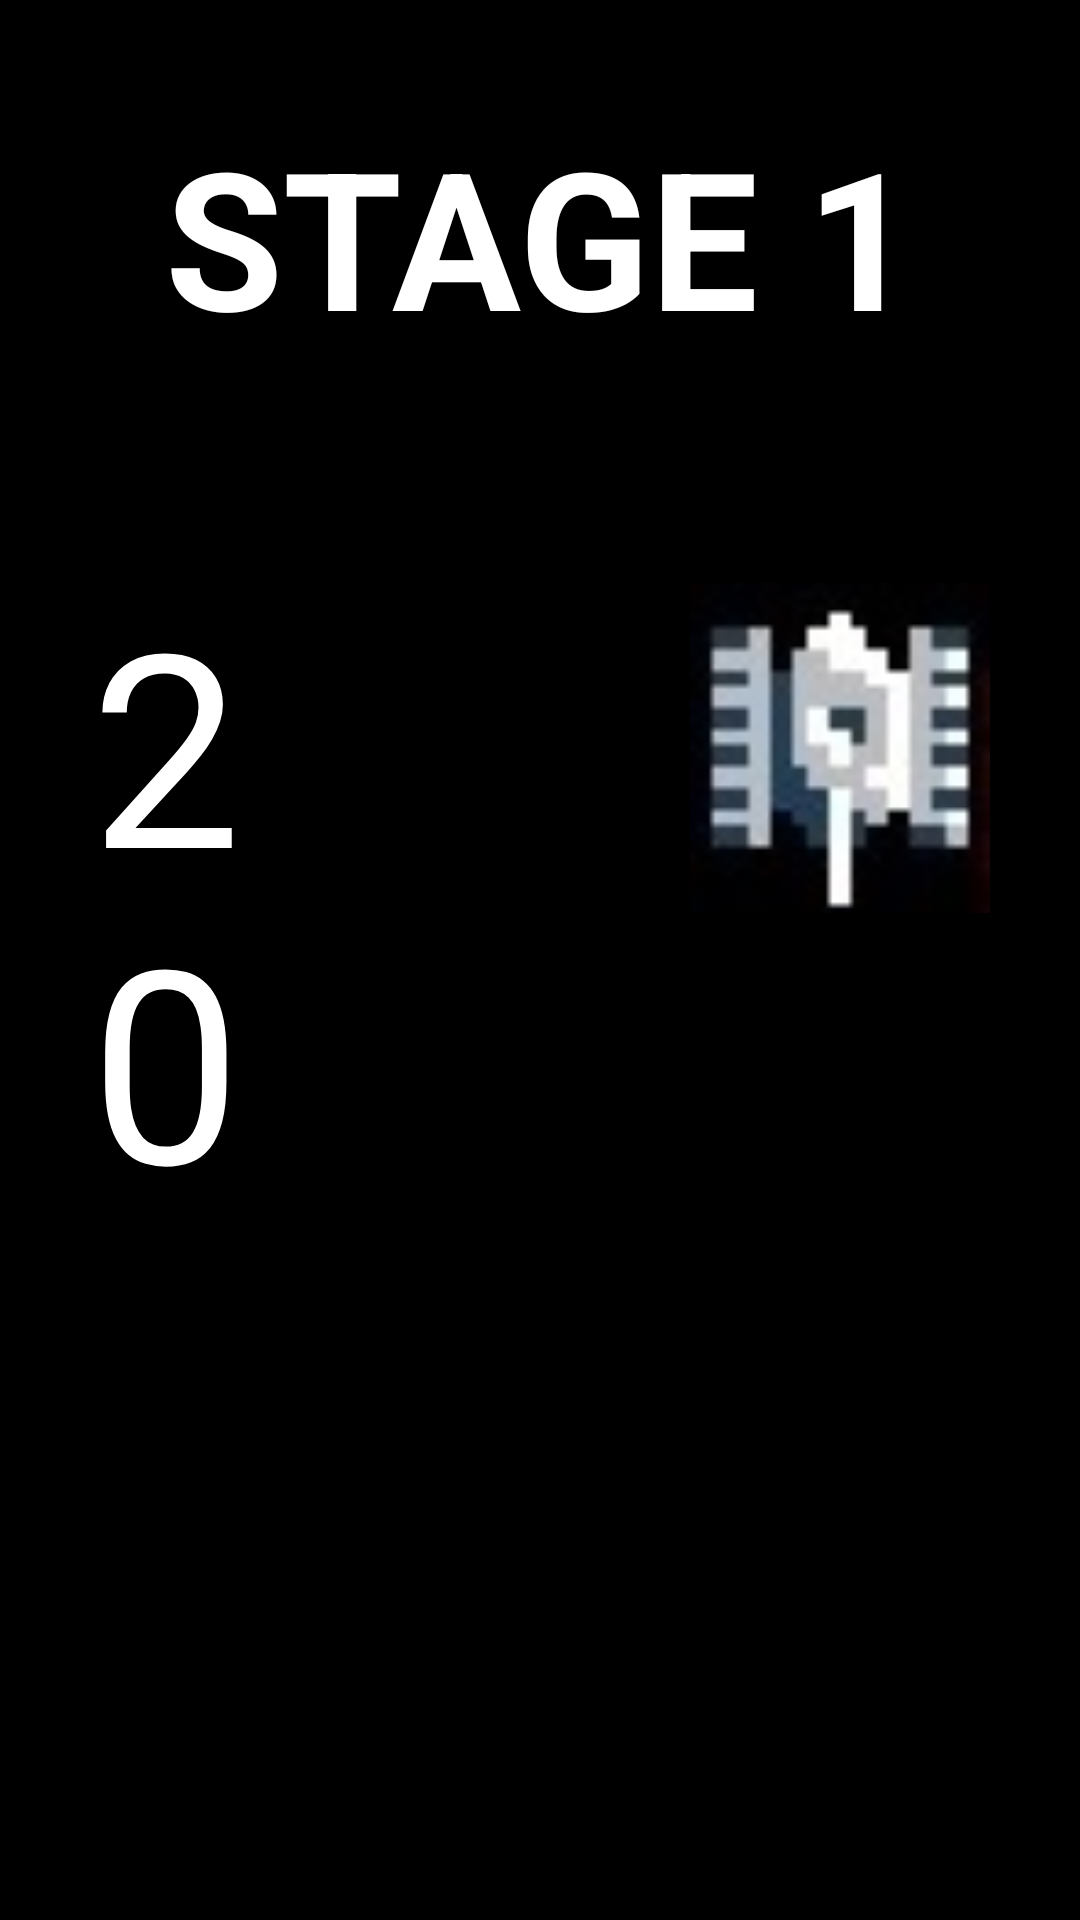

Icon bounding boxes for this 1080 x 1920 phone screenshot, format (x1, y1, x2, y2):
enemy tank: (709, 610, 990, 908)
